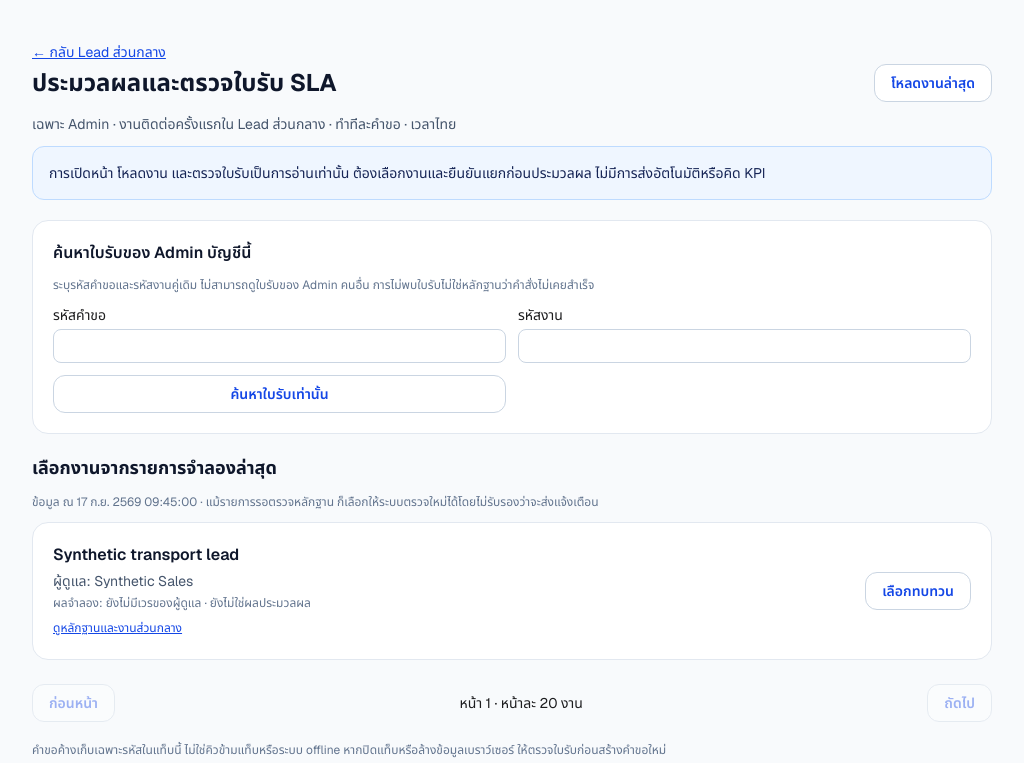
it: real UI → clients → HTTP handlers with isolated fake RPC transport › recovers a lost POST response by GET receipt and clears only the matching queue without another POST
Step 1. Click the button "เลือกทบทวน" → (918, 591), box [865,572,971,610]
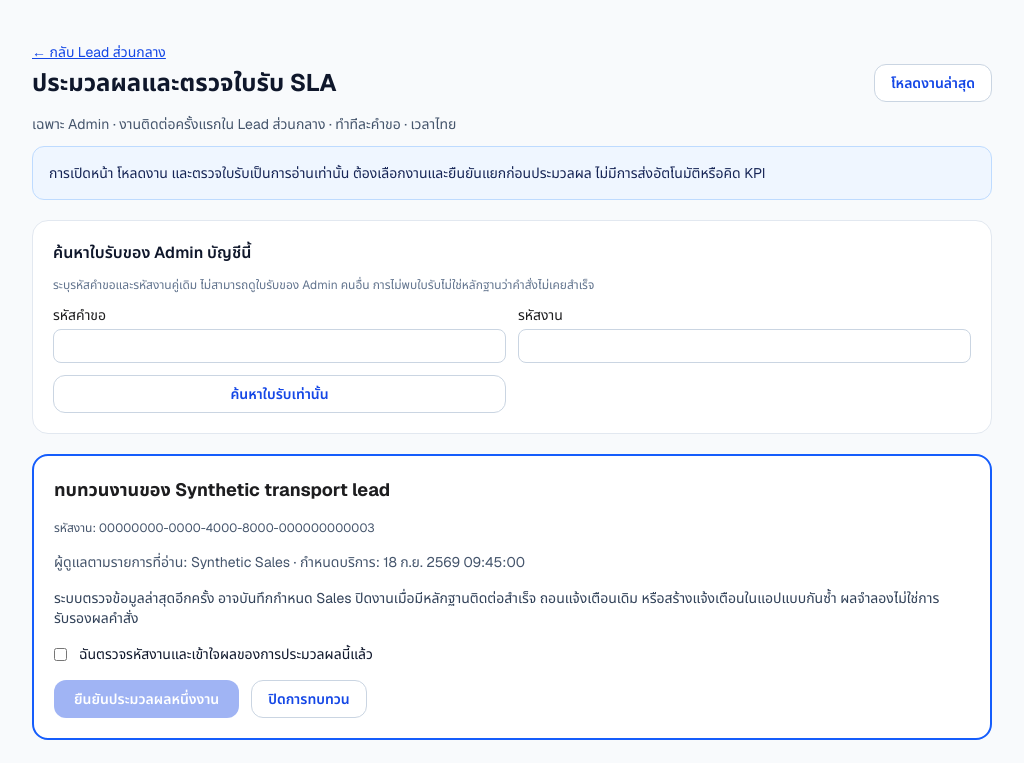
Expected: the button "ยืนยันประมวลผลหนึ่งงาน" is disabled, [54,680,239,718]
Step 2. Click the checkbox labelled "ฉันตรวจรหัสงานและเข้าใจผลของการประมวลผลนี้แล้ว" → (60, 654), box [54,648,67,661]
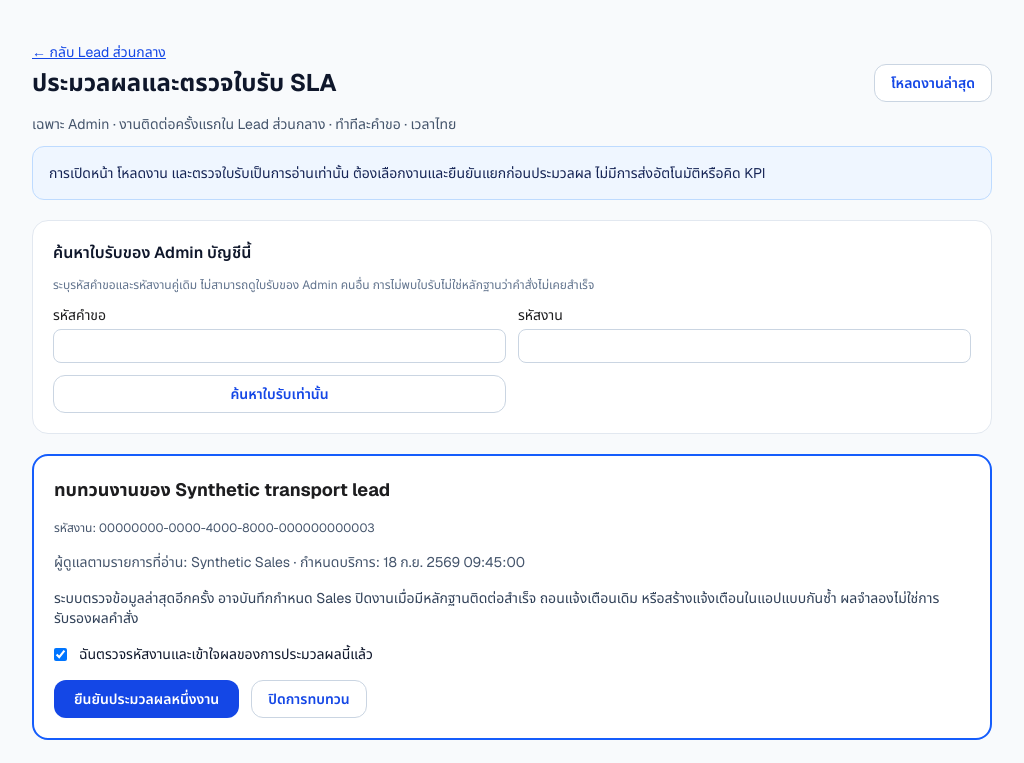
Expected: the button "ยืนยันประมวลผลหนึ่งงาน" is enabled
Step 3. Click the button "ยืนยันประมวลผลหนึ่งงาน" → (147, 699), box [54,680,239,718]
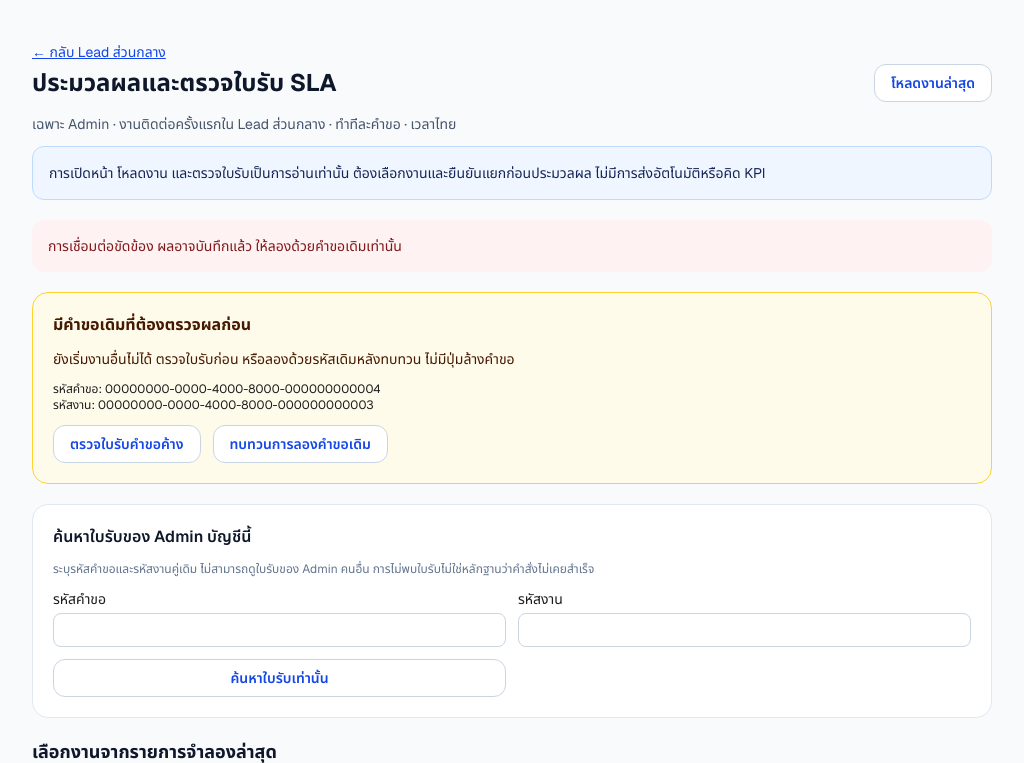
Expected: the message "การเชื่อมต่อขัดข้อง ผลอาจบันทึกแล้ว ให้ลองด้วยคำขอเดิมเท่านั้น" is shown, [32,220,992,272]
Expected: the element named "คำขอค้างในแท็บ" is shown, [32,292,992,484]
Step 4. Click the button "ตรวจใบรับคำขอค้าง" → (127, 444), box [53,425,200,463]
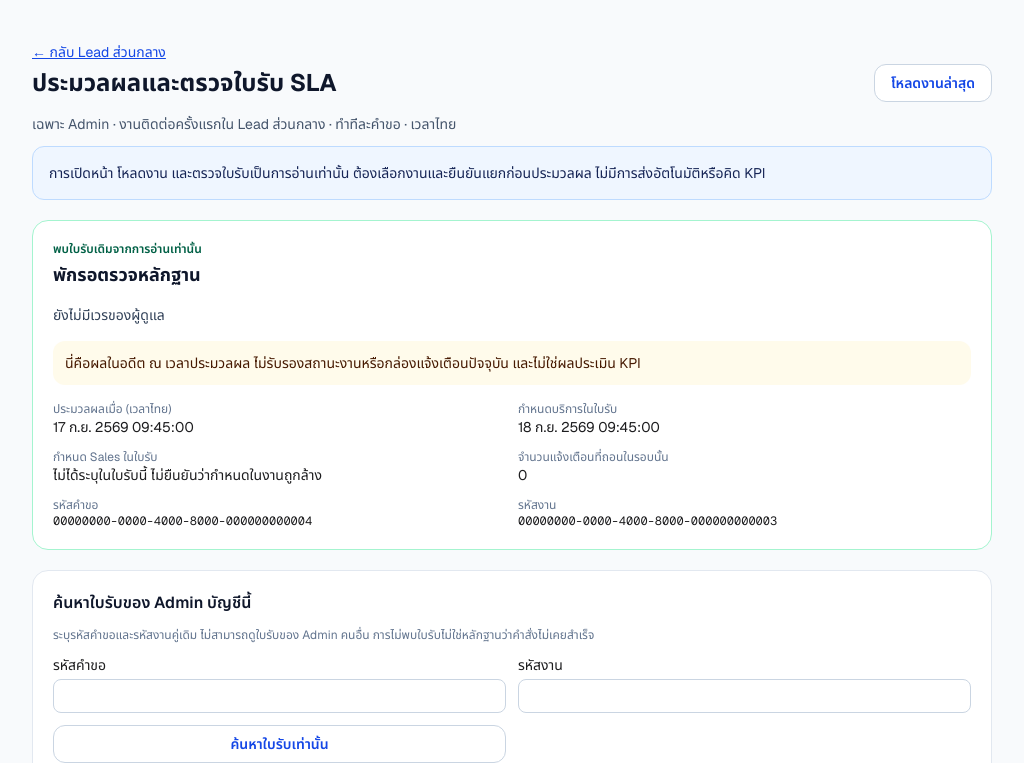
Expected: the text "พบใบรับเดิมจากการอ่านเท่านั้น" is shown, [53,241,202,257]
Expected: the element "คำขอค้างในแท็บ" is gone
